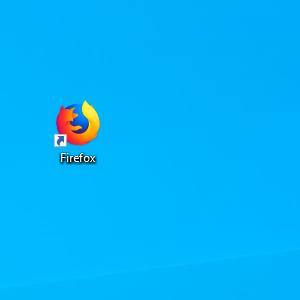firefox: (54, 99, 100, 148)
